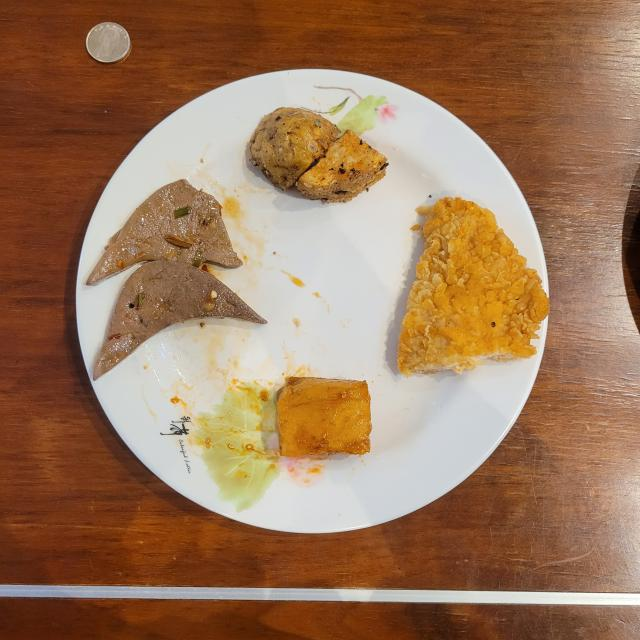coin: (86, 22, 130, 64)
creamy tofu: (276, 376, 371, 458)
fried chicken cutlet: (398, 198, 549, 375)
fried potato: (250, 108, 388, 202)
pig liver: (88, 180, 266, 379)
